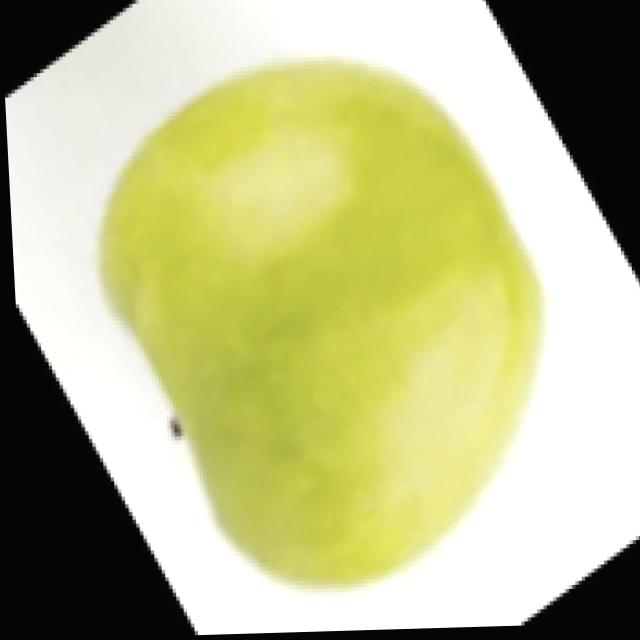Apple: (86, 57, 552, 600)
